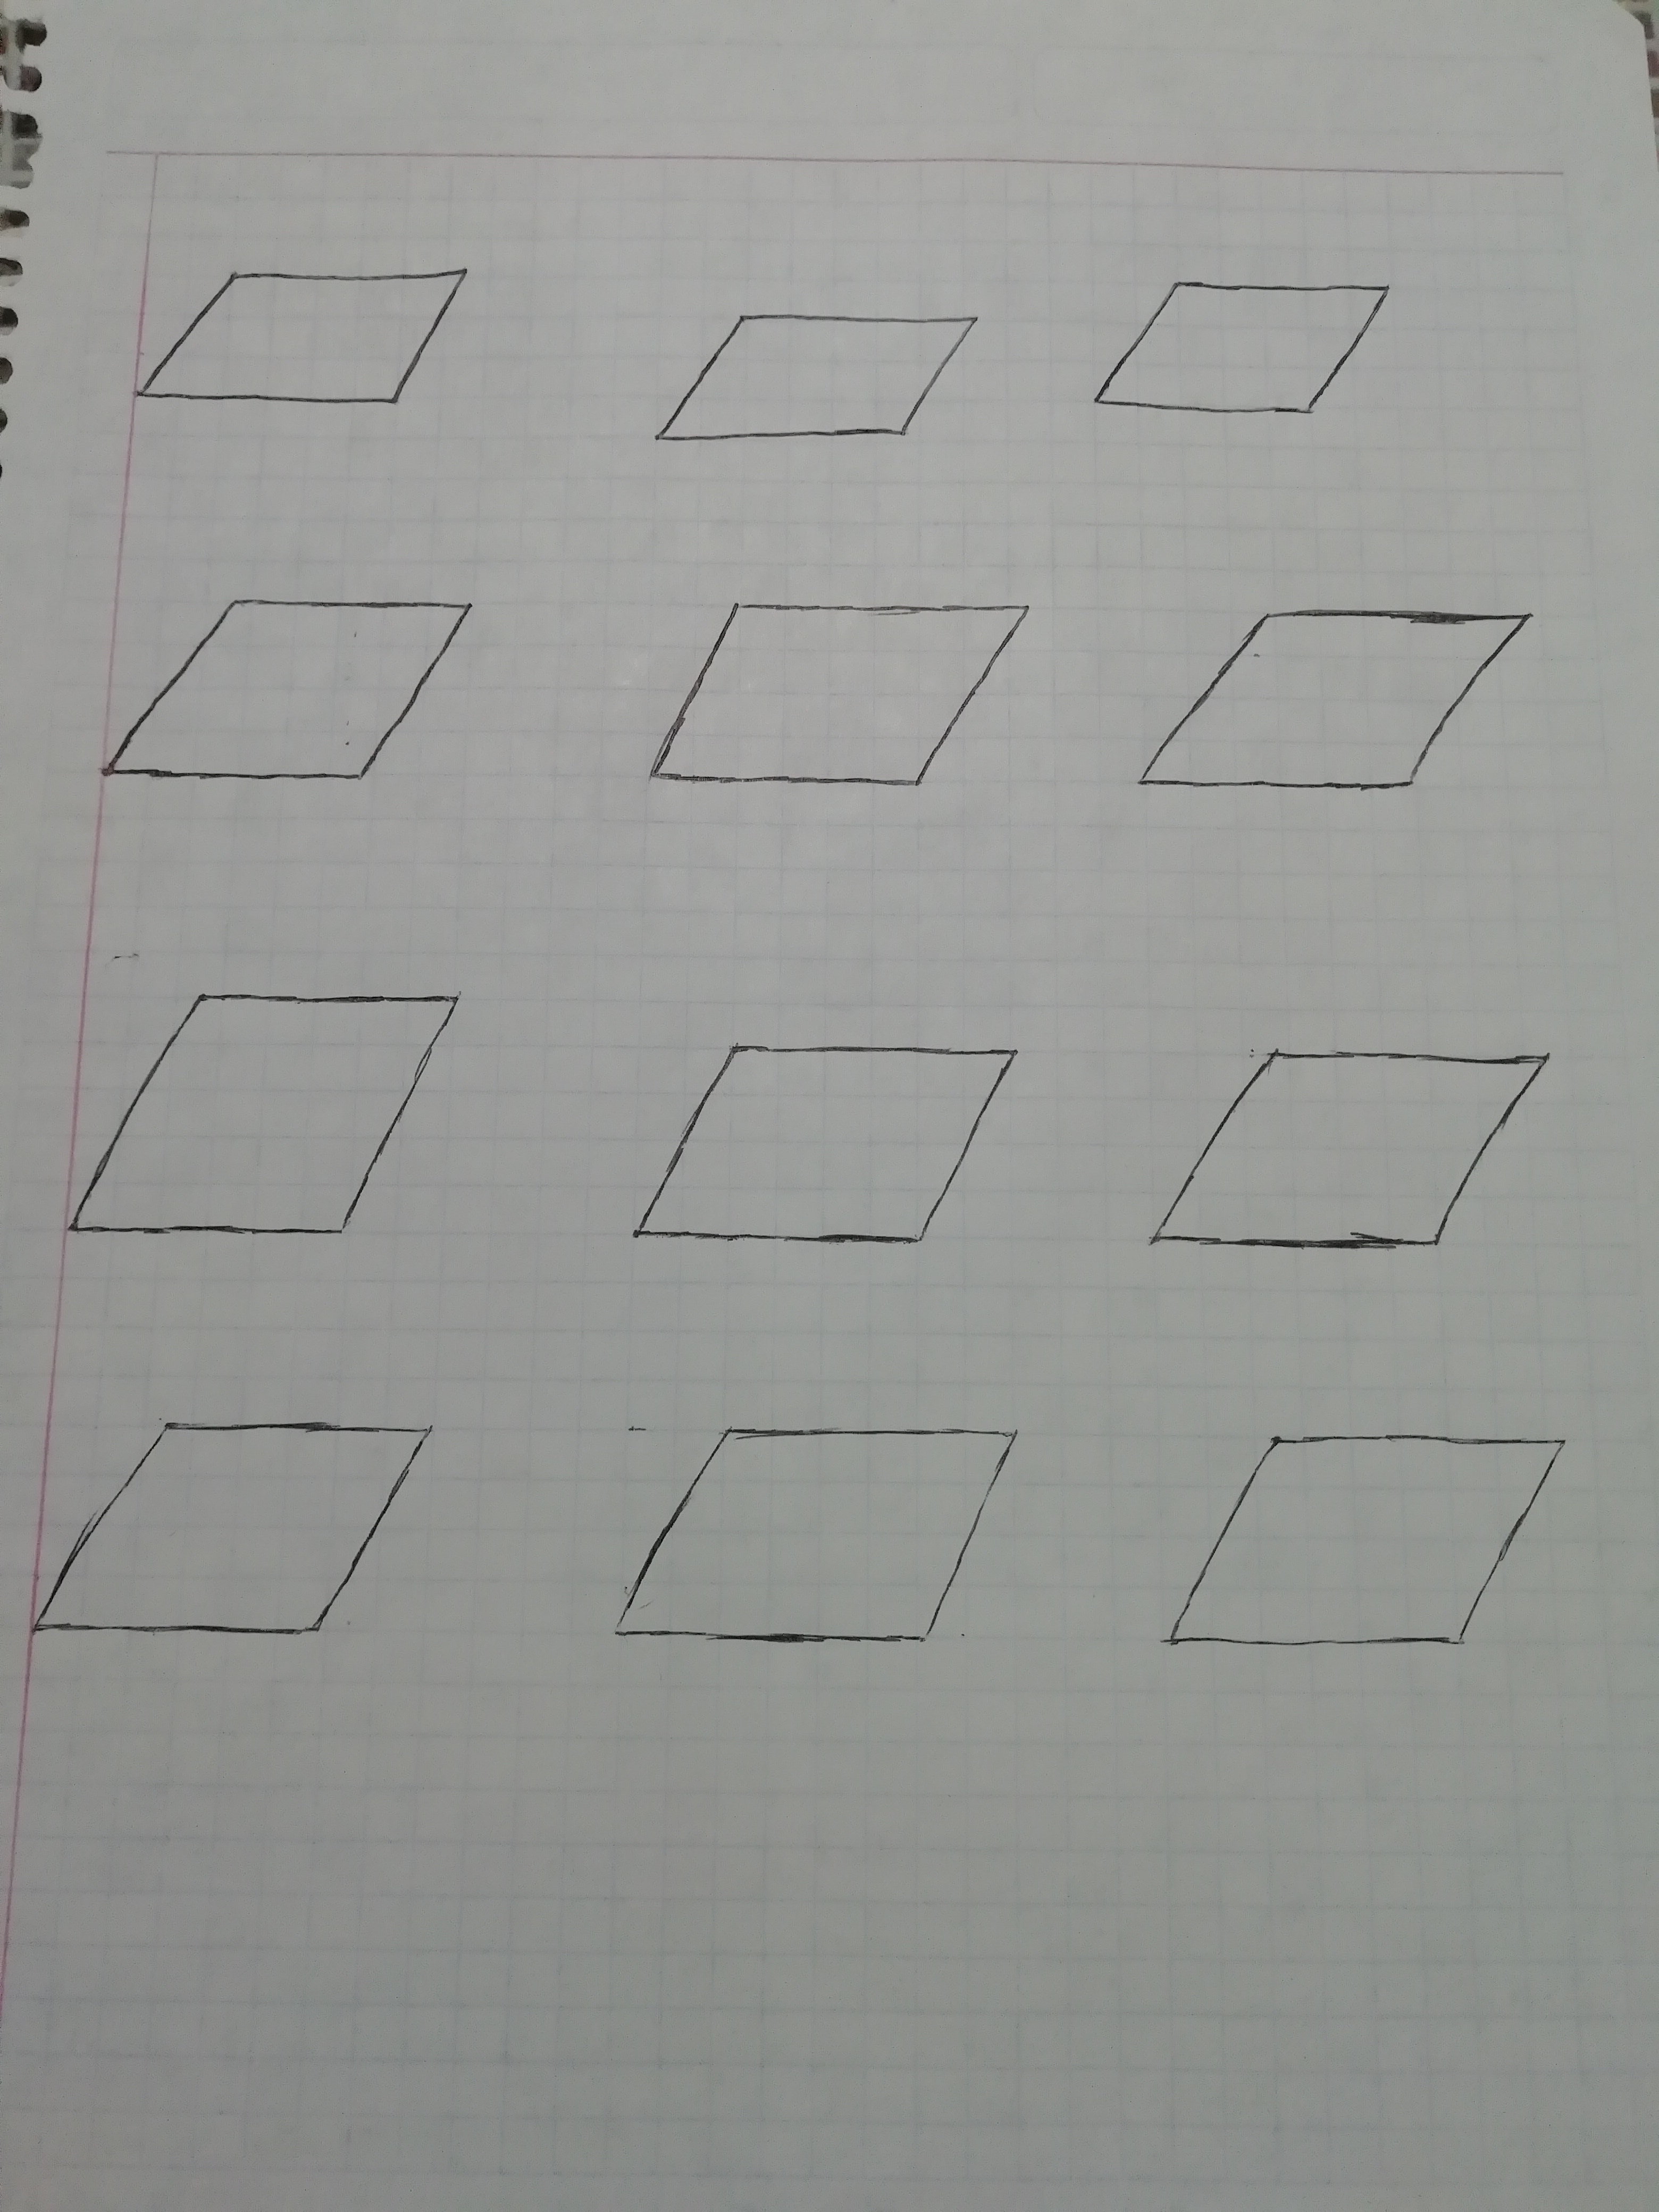scan: (19, 958, 509, 1298), (587, 1379, 1037, 1705), (12, 1383, 458, 1688), (1119, 1014, 1579, 1305), (59, 564, 530, 846), (1129, 1393, 1593, 1677), (598, 1014, 1061, 1277), (1108, 575, 1579, 833), (622, 559, 1047, 840), (619, 273, 1009, 500), (80, 233, 502, 442), (1079, 240, 1438, 458)
